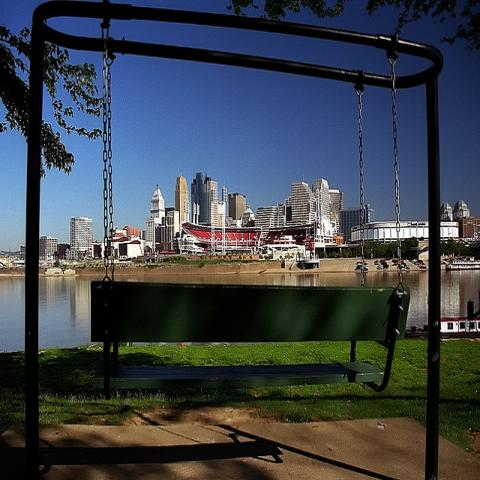car: (356, 265, 369, 269), (383, 264, 389, 269)
